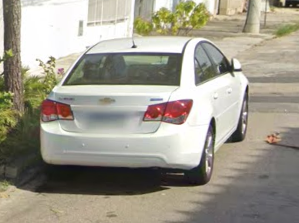car: (38, 38, 250, 185)
